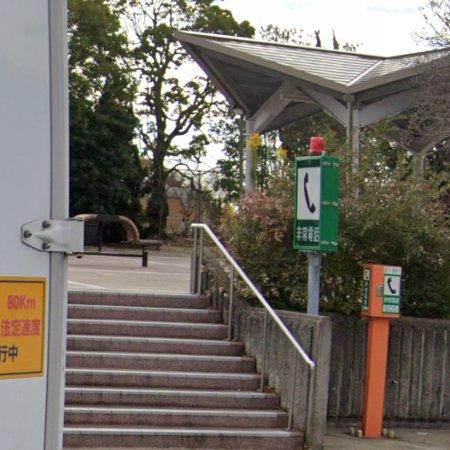stairs: (64, 293, 303, 450)
